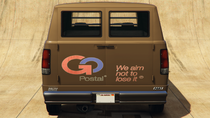car: (44, 2, 170, 118)
